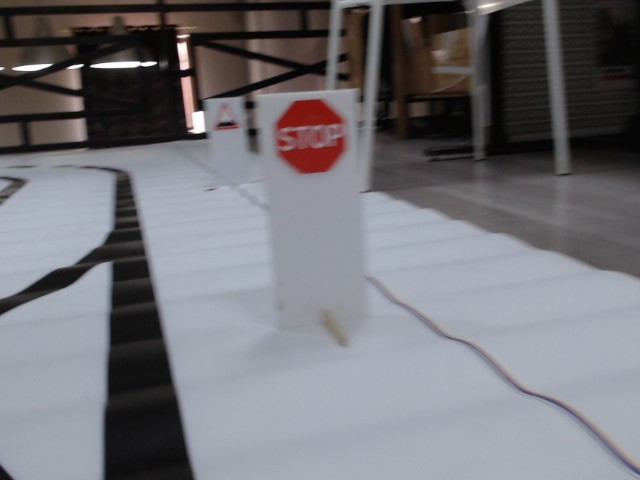Nerov: (210, 104, 240, 130)
Stop: (275, 100, 348, 173)
